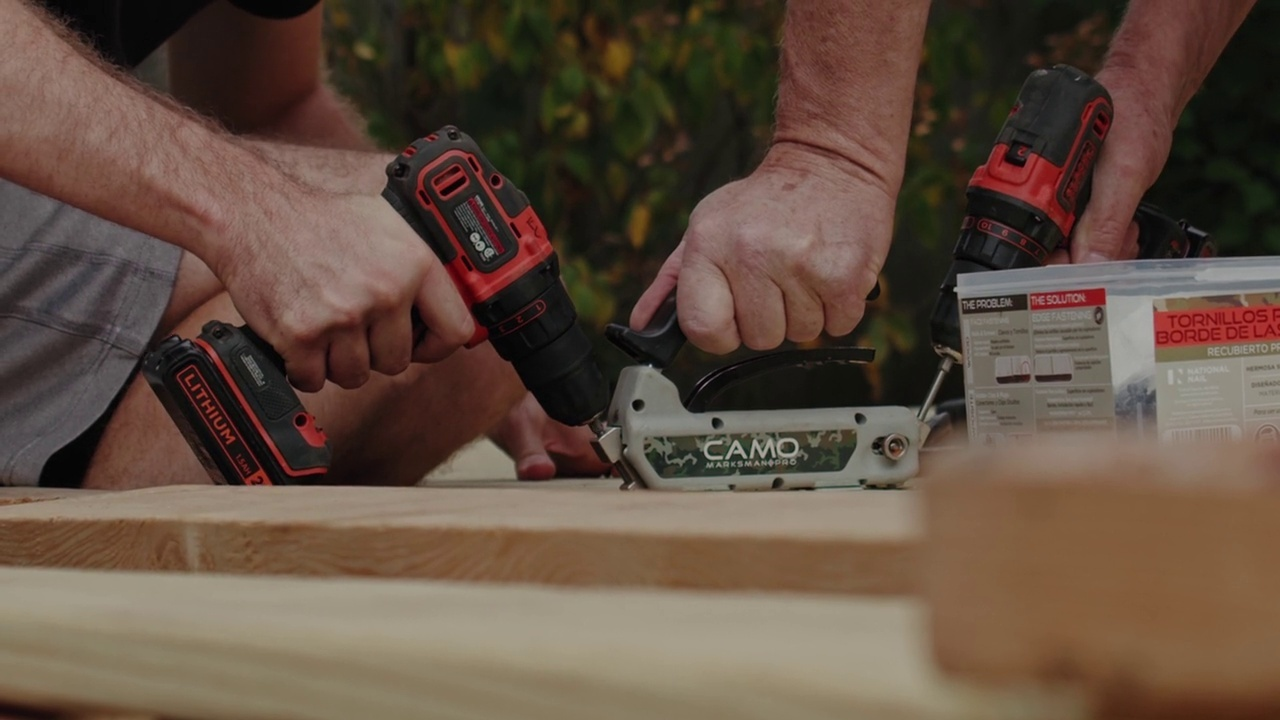driller: (139, 122, 611, 488), (914, 60, 1220, 422)
